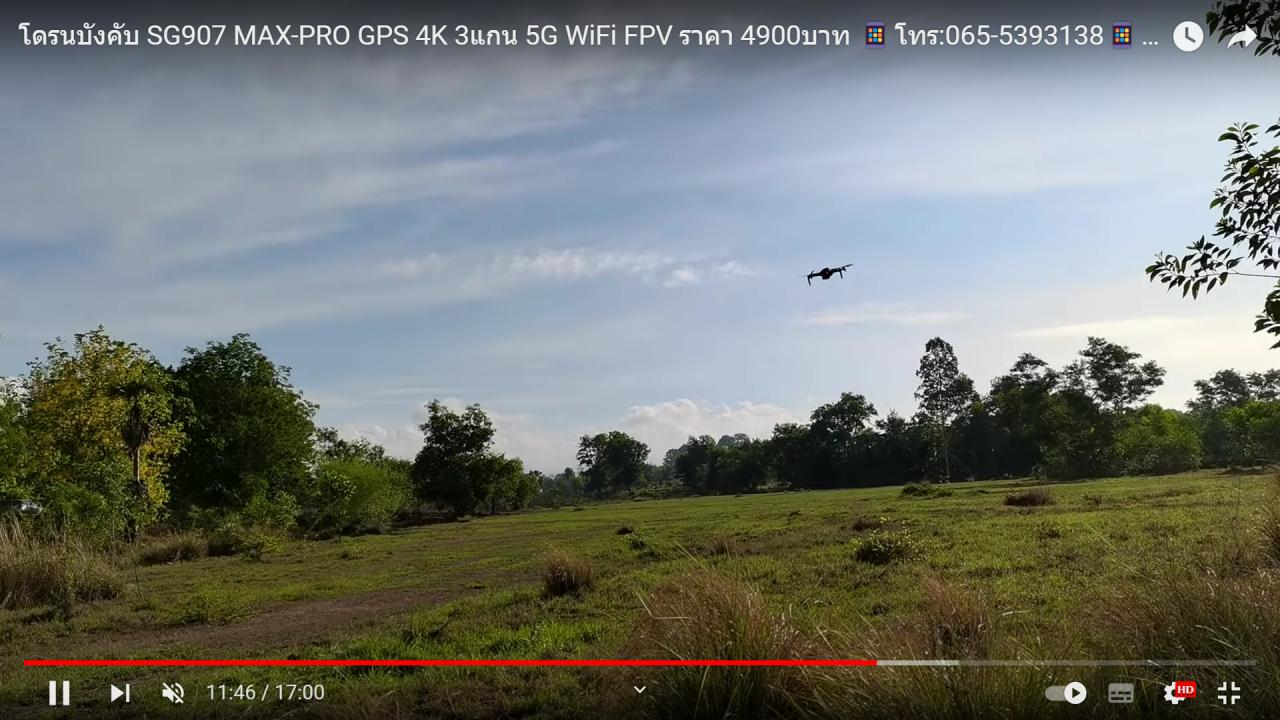Drone: (796, 253, 860, 294)
